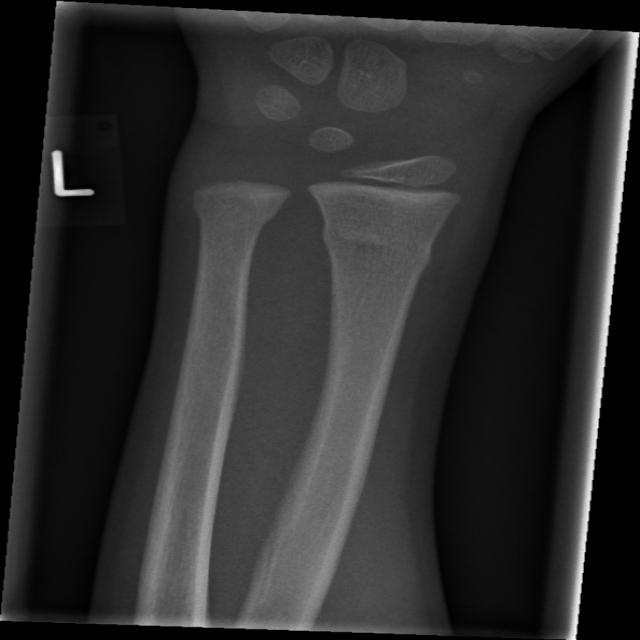radius fracture: (305, 208, 461, 374)
ulna fracture: (188, 212, 282, 466)
